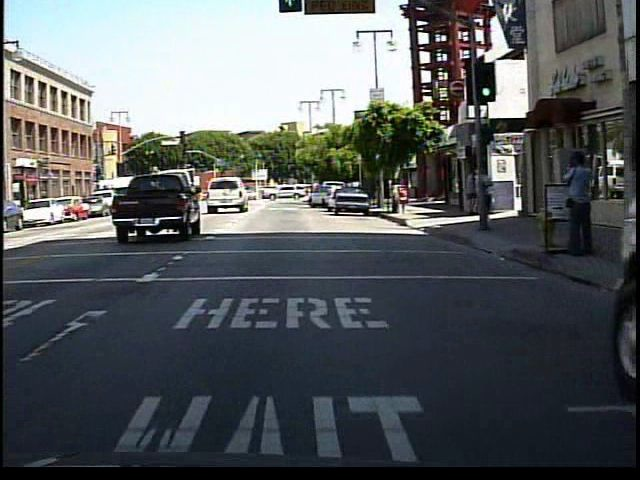person: (553, 148, 592, 260), (473, 162, 498, 230), (463, 168, 478, 217)
